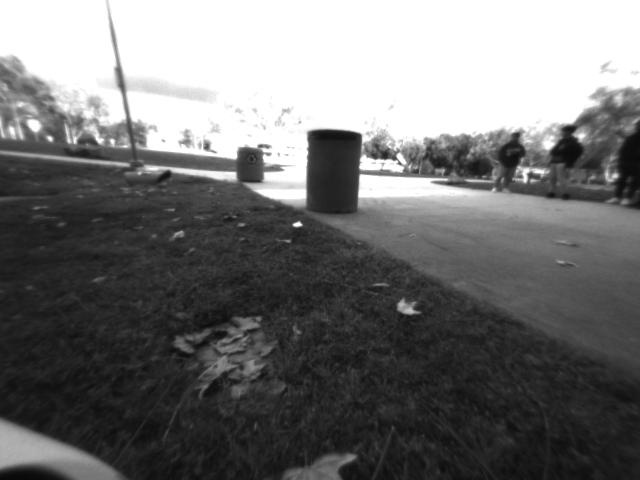trashcan: (297, 118, 368, 225), (235, 140, 270, 186)
